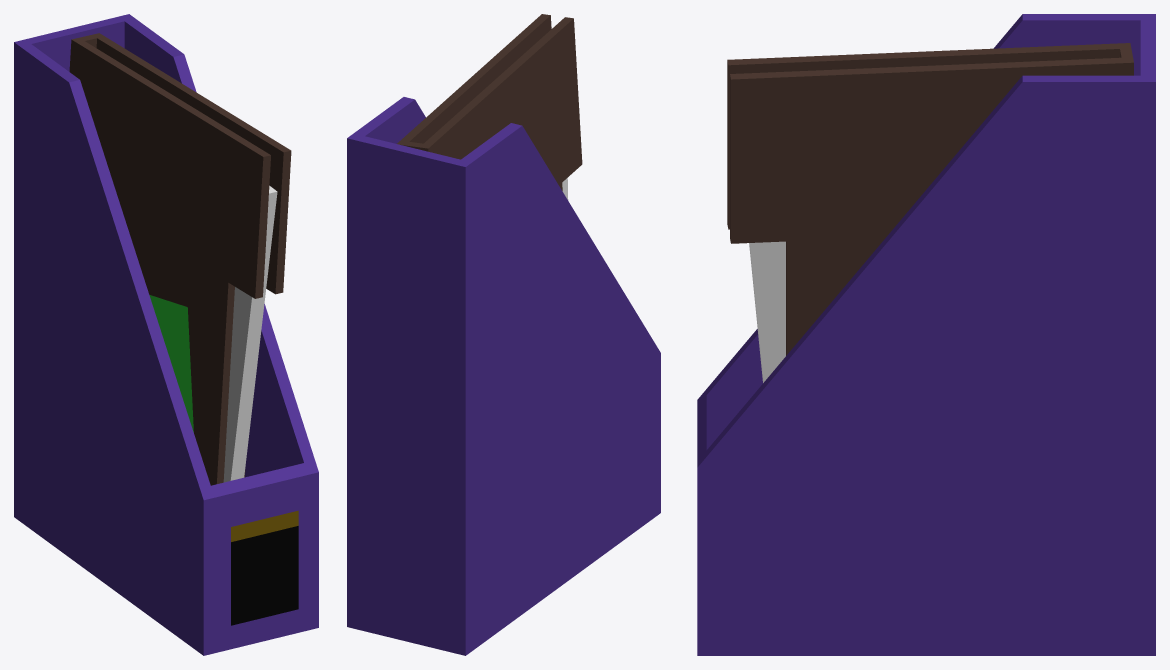
Rendered from fileholder_full.fbx.
3 views of the same model, side by side, from view 1: azimuth 30°, elevation 25°; view 2: azimuth 150°, elevation 25°; view 3: azimuth 270°, elevation 25° (orthographic). The views are drawn at different scales.
Visible parts, largest first — view 1: fileholder_full; view 2: fileholder_full; view 3: fileholder_full.
Part boxes in pixels (x1=…): fileholder_full: x1=14, y1=14, x2=318, y2=655; fileholder_full: x1=347, y1=14, x2=660, y2=655; fileholder_full: x1=697, y1=14, x2=1155, y2=655.
Size of the model in its own units: 7 by 27.55 by 20.3.
